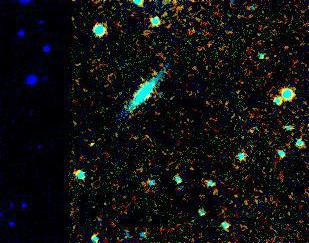star: (74, 129, 104, 159)
